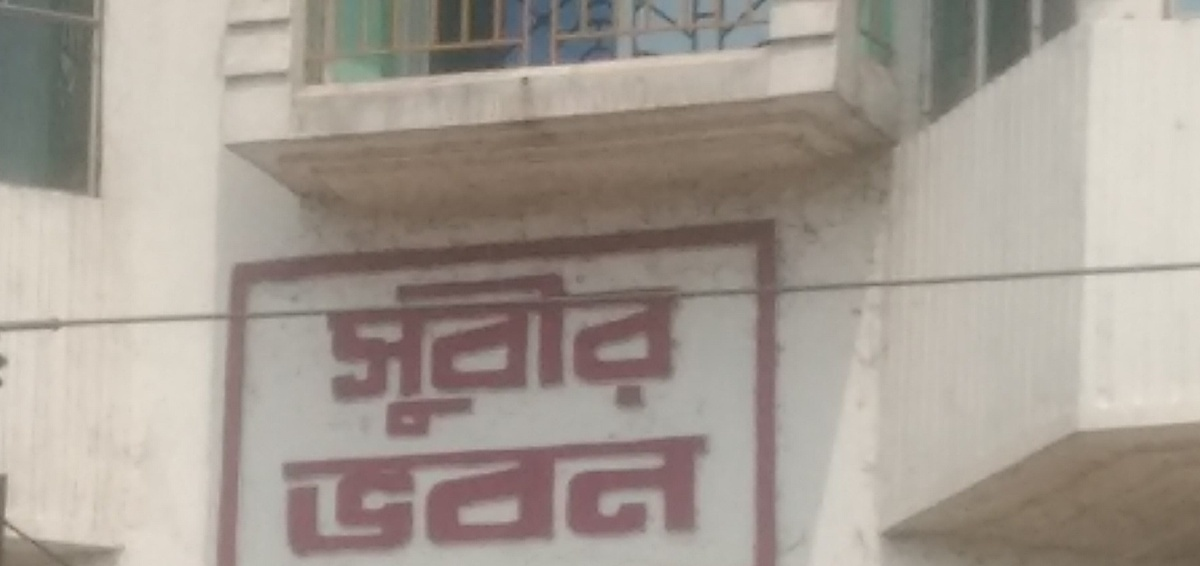text: (321, 260, 336, 450), (337, 260, 352, 450), (353, 260, 368, 450), (369, 260, 384, 450), (385, 260, 400, 450), (401, 260, 416, 450), (417, 260, 432, 450), (433, 260, 448, 450), (449, 260, 464, 450), (465, 260, 480, 450), (481, 260, 496, 450), (497, 260, 512, 450), (513, 260, 528, 450), (529, 260, 544, 450), (545, 260, 560, 450), (561, 260, 576, 450), (577, 260, 592, 450), (593, 260, 608, 450), (609, 260, 624, 450), (625, 260, 640, 450), (641, 260, 656, 450), (657, 260, 672, 450), (673, 260, 687, 450), (289, 429, 304, 562), (305, 429, 320, 562), (321, 429, 336, 562), (337, 429, 352, 562), (353, 429, 368, 562), (369, 429, 384, 562), (385, 429, 400, 562), (401, 429, 416, 562), (417, 429, 432, 562), (433, 429, 448, 562), (449, 429, 464, 562), (465, 429, 480, 562), (481, 429, 496, 562), (497, 429, 512, 562), (513, 429, 528, 562), (529, 429, 544, 562), (545, 429, 560, 562), (561, 429, 576, 562), (577, 429, 592, 562), (593, 429, 608, 562), (609, 429, 624, 562), (625, 429, 640, 562), (641, 429, 656, 562), (657, 429, 672, 562), (673, 429, 688, 562), (689, 429, 704, 562), (705, 429, 718, 562), (276, 429, 288, 562), (319, 260, 320, 450)
